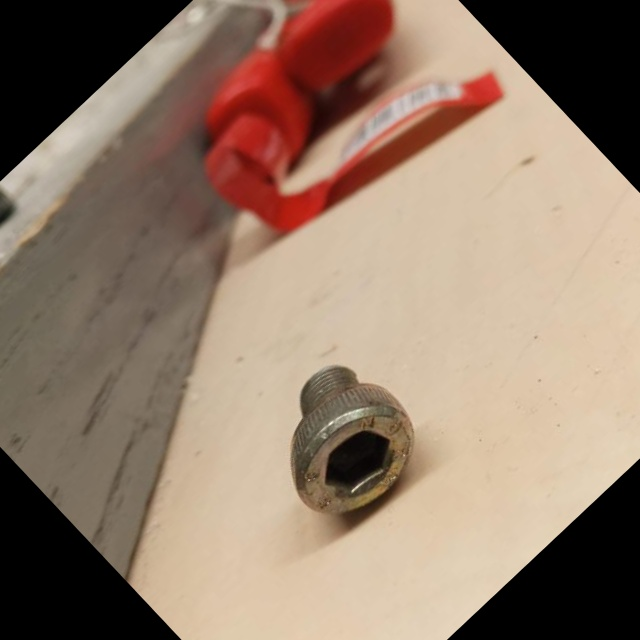allen: (279, 385, 437, 541)
